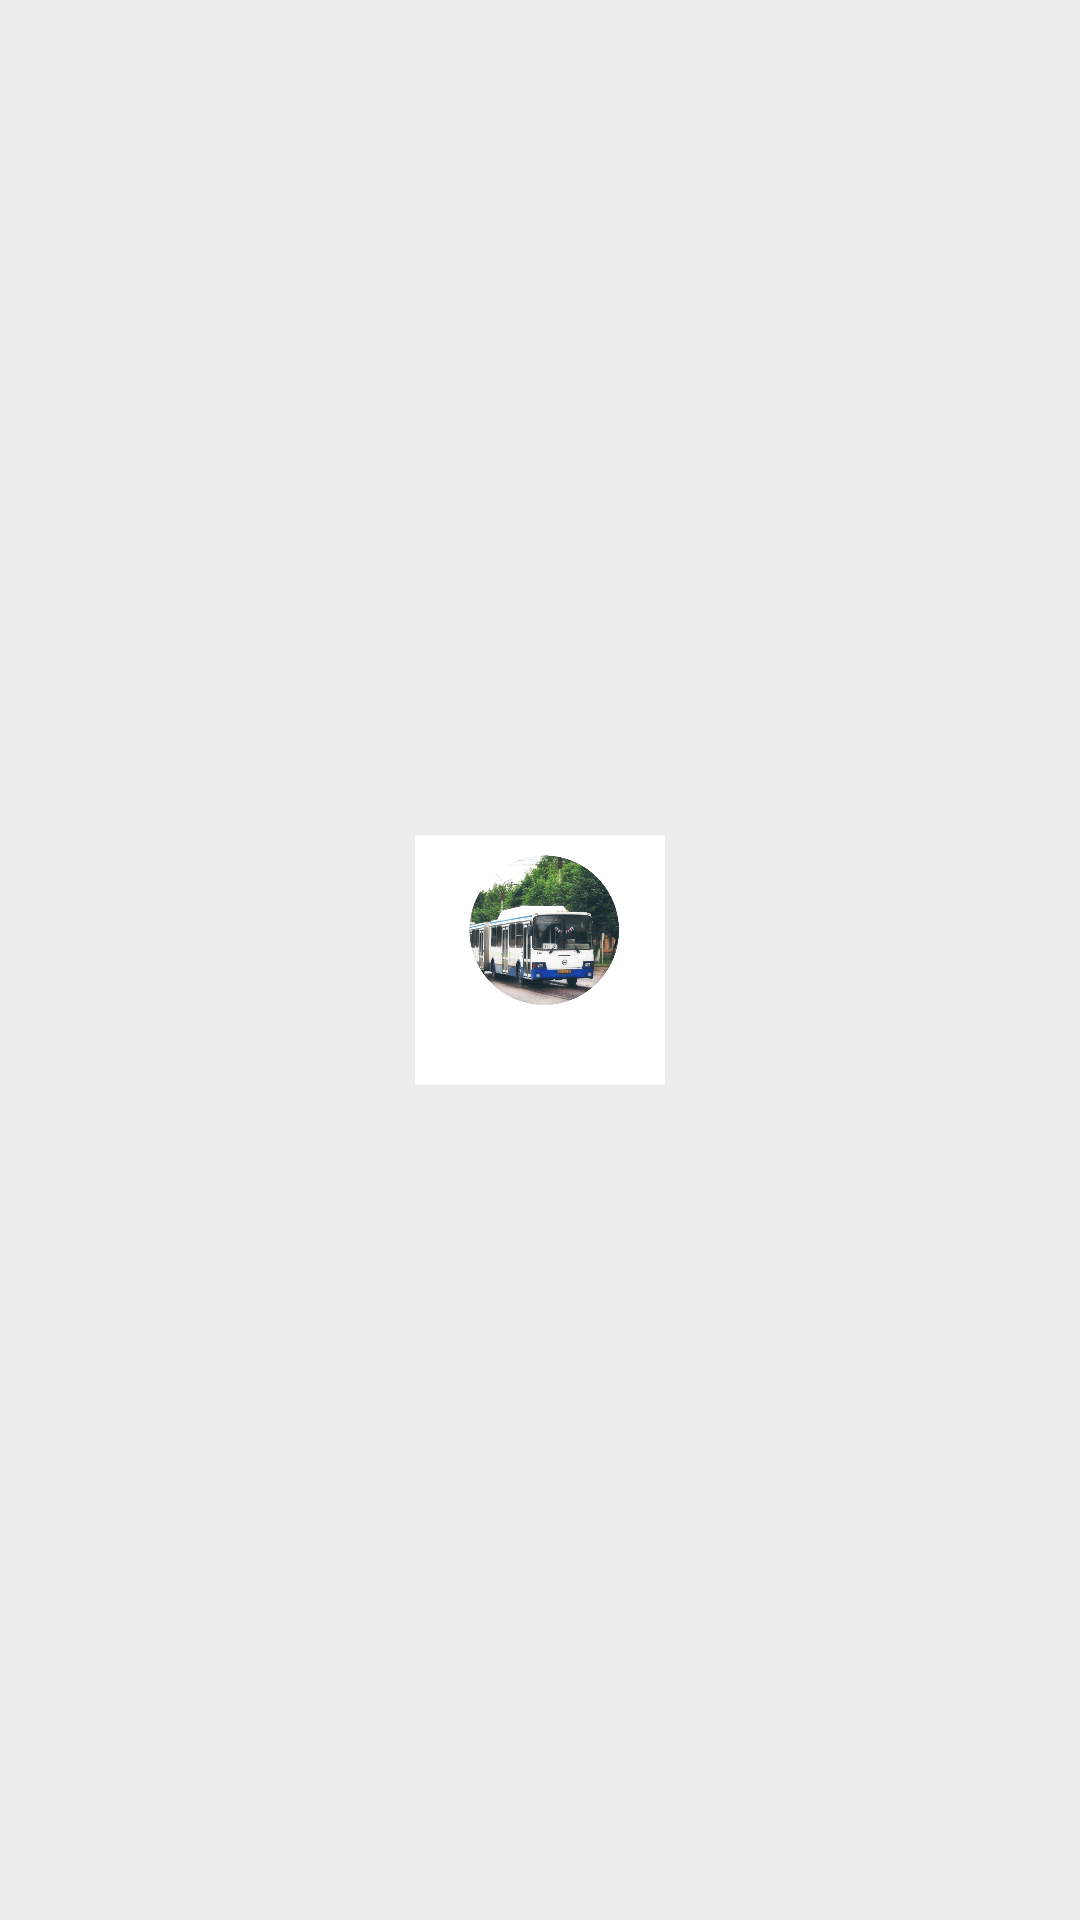

Icon click points for this 1080x1920 phone screenshot, format (x,y):
bus: (544,930)
